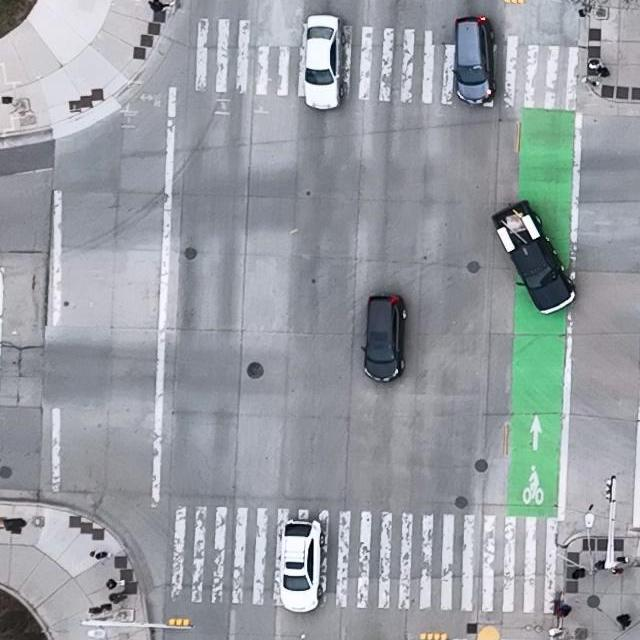car: (490, 200, 577, 315), (275, 519, 326, 613), (360, 293, 407, 382), (302, 15, 345, 111), (451, 17, 496, 104)
